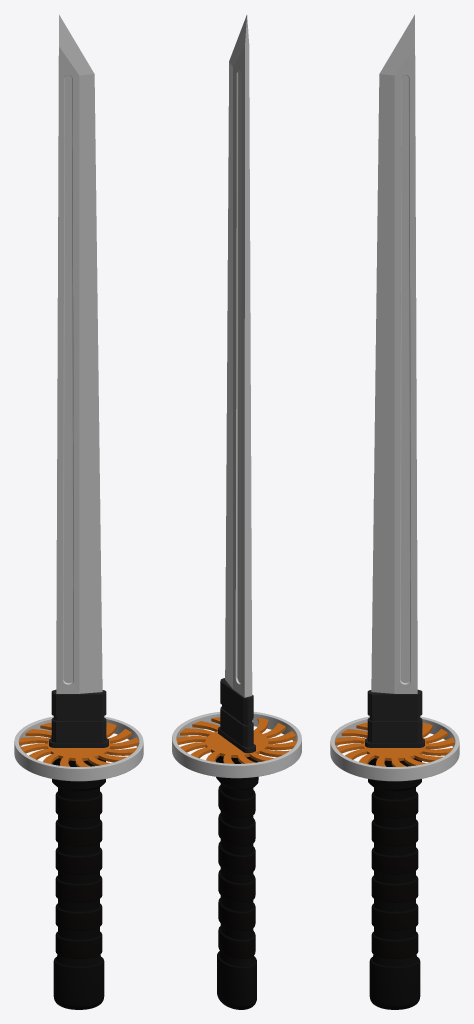
File: NinjaSword.obj
The picture shows the model from 3 angles, left to right: view 1: azimuth 90°, elevation 25°; view 2: azimuth 210°, elevation 25°; view 3: azimuth 270°, elevation 25°; orthographic projection.
Parts seen in each view (by area): view 1: NinjaSword_Cylinder.006; view 2: NinjaSword_Cylinder.006; view 3: NinjaSword_Cylinder.006.
Part boxes in pixels (left/top/right/bottom): NinjaSword_Cylinder.006: left=14, top=14, right=143, bottom=1009; NinjaSword_Cylinder.006: left=172, top=15, right=301, bottom=1009; NinjaSword_Cylinder.006: left=330, top=14, right=459, bottom=1009.
Size of the model in its own units: 1.85 by 15.61 by 1.85.
